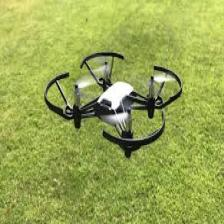drone: (45, 53, 182, 155)
